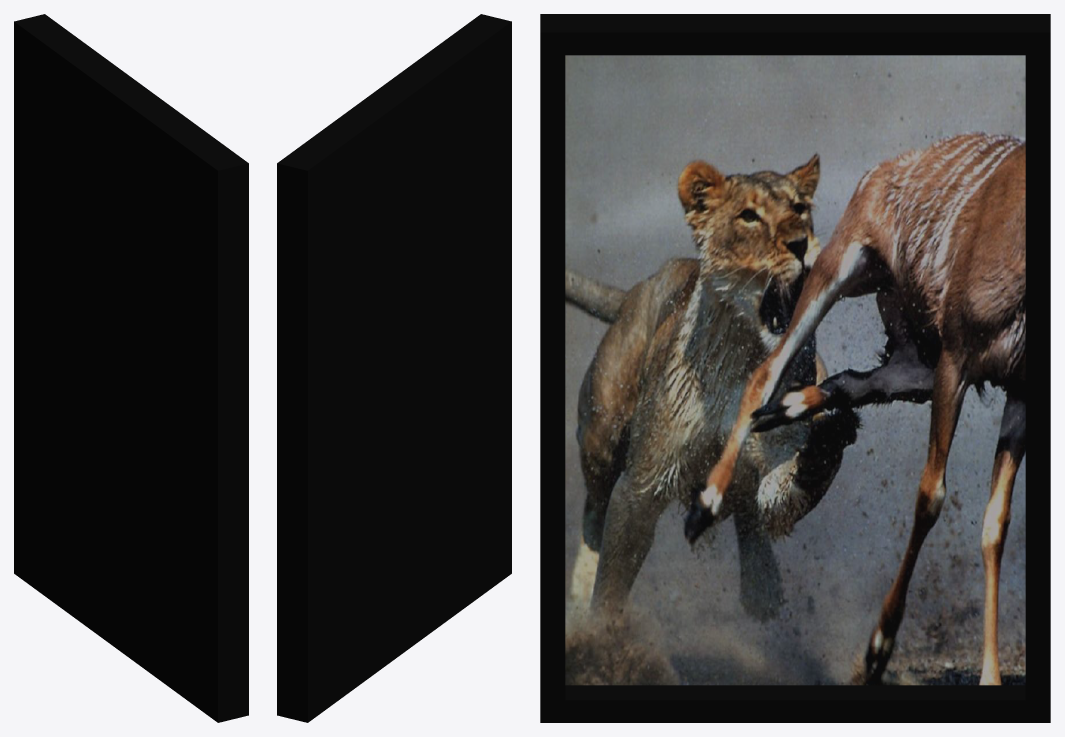
File: Running_picture.FBX
3 views of the same model, side by side, from view 1: azimuth 30°, elevation 25°; view 2: azimuth 150°, elevation 25°; view 3: azimuth 270°, elevation 25° (orthographic). The views are drawn at different scales.
Visible parts, largest first — view 1: Box001; view 2: Box001; view 3: Object003, Box001.
Part boxes in pixels (bbox=[...]): Box001: bbox=[14, 14, 248, 722]; Box001: bbox=[277, 14, 511, 722]; Object003: bbox=[565, 55, 1025, 685]; Box001: bbox=[540, 14, 1050, 722].
Bounding box in the file's own units: 98.06 × 1678 × 1124.
2 materials, 1 textured.
